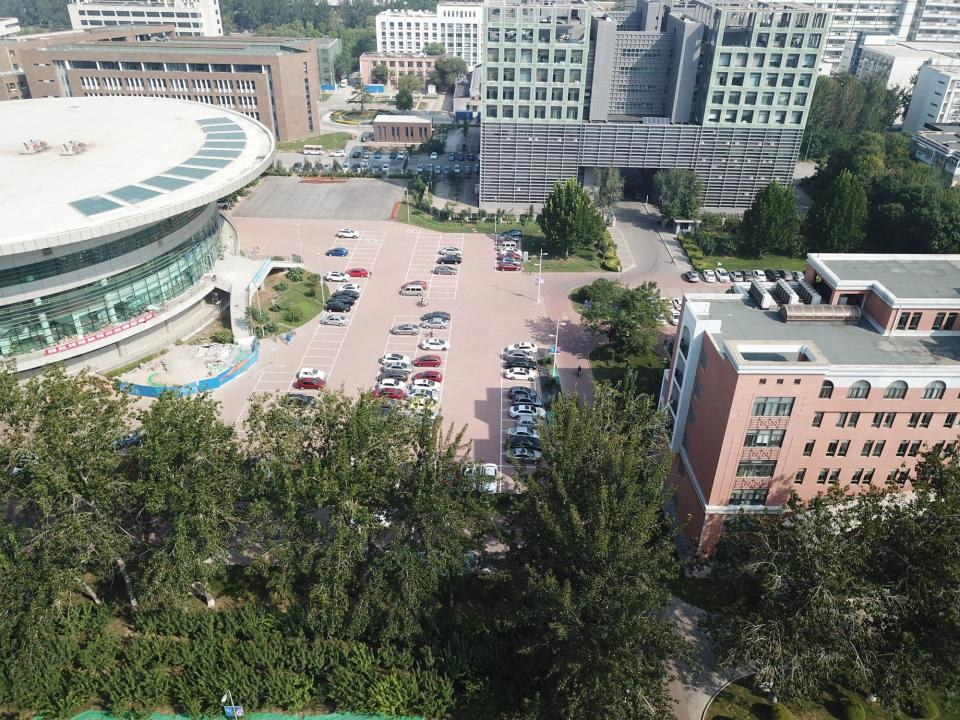bus: (303, 144, 326, 155)
car: (352, 408, 395, 431), (397, 409, 440, 428), (505, 448, 542, 465), (506, 436, 544, 452), (284, 394, 318, 410), (367, 398, 401, 414), (510, 404, 546, 419), (441, 461, 460, 489), (507, 426, 542, 441), (483, 463, 499, 493), (460, 463, 476, 493), (511, 394, 543, 408), (505, 367, 537, 381), (406, 389, 440, 402), (505, 357, 538, 370), (370, 388, 404, 400), (516, 416, 545, 430), (383, 361, 414, 374), (414, 354, 442, 368), (411, 378, 441, 391), (671, 332, 695, 348), (422, 338, 451, 351), (377, 370, 408, 382), (408, 398, 436, 411), (378, 378, 406, 391), (392, 323, 420, 336), (298, 368, 326, 381), (507, 386, 537, 398), (505, 349, 535, 361), (297, 378, 326, 390), (507, 342, 538, 353), (321, 314, 349, 326), (382, 353, 410, 365), (422, 318, 449, 330), (414, 371, 443, 382), (422, 311, 451, 322), (325, 296, 355, 306), (326, 301, 351, 313), (326, 271, 351, 282), (668, 309, 684, 326), (498, 261, 521, 272), (332, 290, 360, 299), (336, 283, 361, 293), (403, 280, 428, 290), (438, 255, 462, 265), (434, 266, 458, 276), (498, 247, 522, 257), (764, 268, 781, 282), (500, 256, 521, 267), (646, 296, 661, 311), (660, 297, 675, 312), (672, 297, 688, 311), (715, 268, 731, 282), (441, 246, 463, 256), (498, 252, 520, 262), (344, 268, 368, 277), (652, 312, 667, 326), (739, 269, 755, 282), (338, 229, 360, 238), (777, 269, 793, 281), (499, 230, 523, 238), (497, 234, 521, 242), (685, 270, 699, 283), (752, 269, 766, 282), (326, 248, 348, 256), (702, 270, 715, 283), (729, 271, 743, 282), (791, 271, 805, 282), (497, 238, 516, 246), (213, 200, 231, 208), (225, 194, 242, 202), (330, 150, 346, 157), (291, 162, 302, 171), (303, 161, 312, 171), (361, 162, 370, 172), (351, 163, 360, 172), (313, 163, 322, 171), (371, 164, 380, 172), (416, 164, 424, 173), (443, 166, 451, 175), (453, 164, 460, 174), (464, 165, 471, 175), (342, 163, 350, 171), (382, 164, 390, 172), (426, 164, 434, 172), (434, 166, 442, 174), (457, 152, 465, 160), (430, 152, 438, 160), (331, 163, 340, 170), (352, 151, 361, 158), (466, 153, 474, 160), (448, 153, 455, 161), (374, 150, 381, 158), (398, 152, 405, 159), (474, 164, 480, 172), (476, 154, 484, 160), (390, 152, 396, 159), (364, 152, 370, 158)
van: (402, 285, 424, 296), (497, 241, 516, 251), (340, 78, 348, 88), (323, 163, 331, 171)
